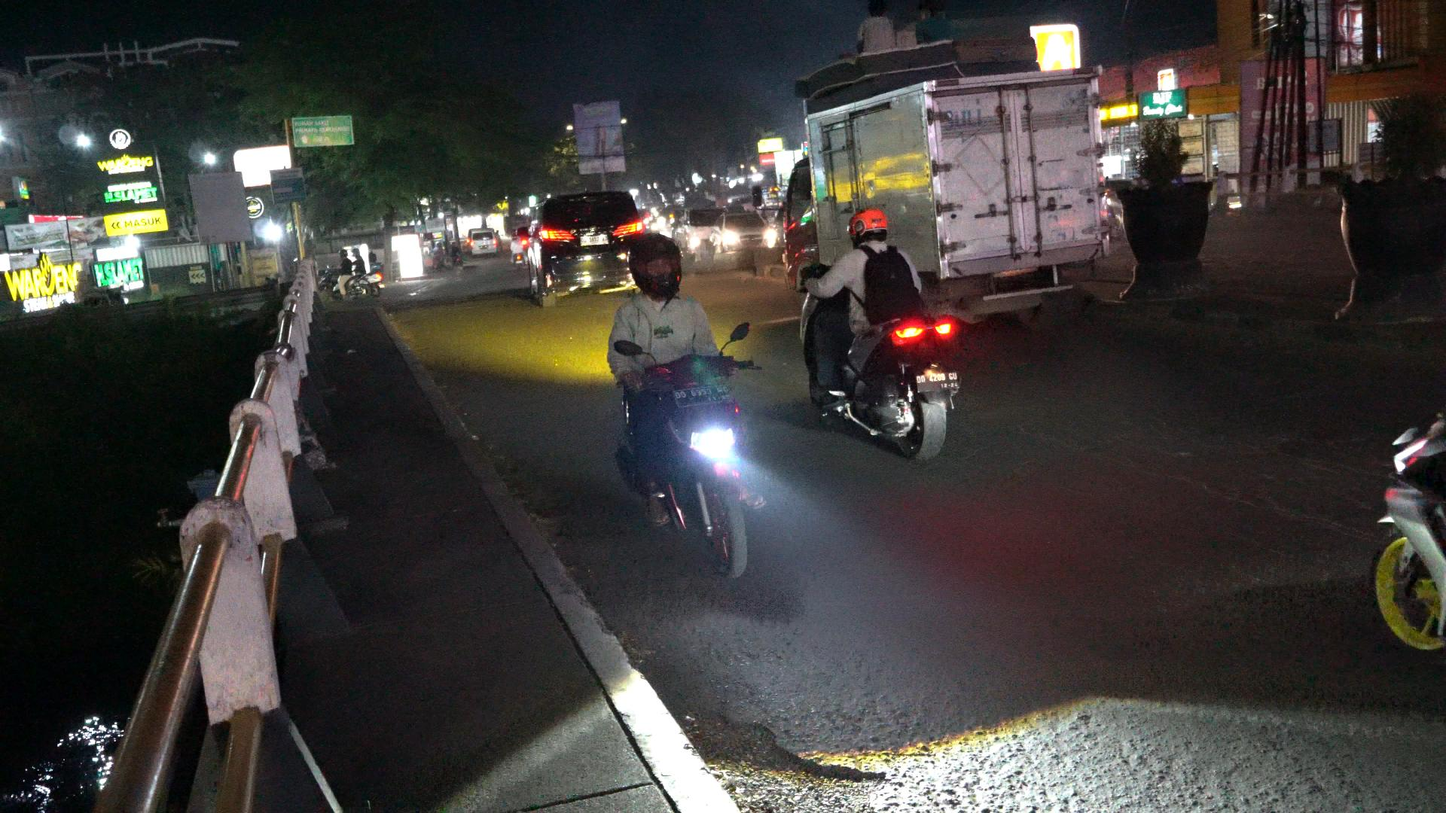number-plate: (670, 380, 739, 408)
